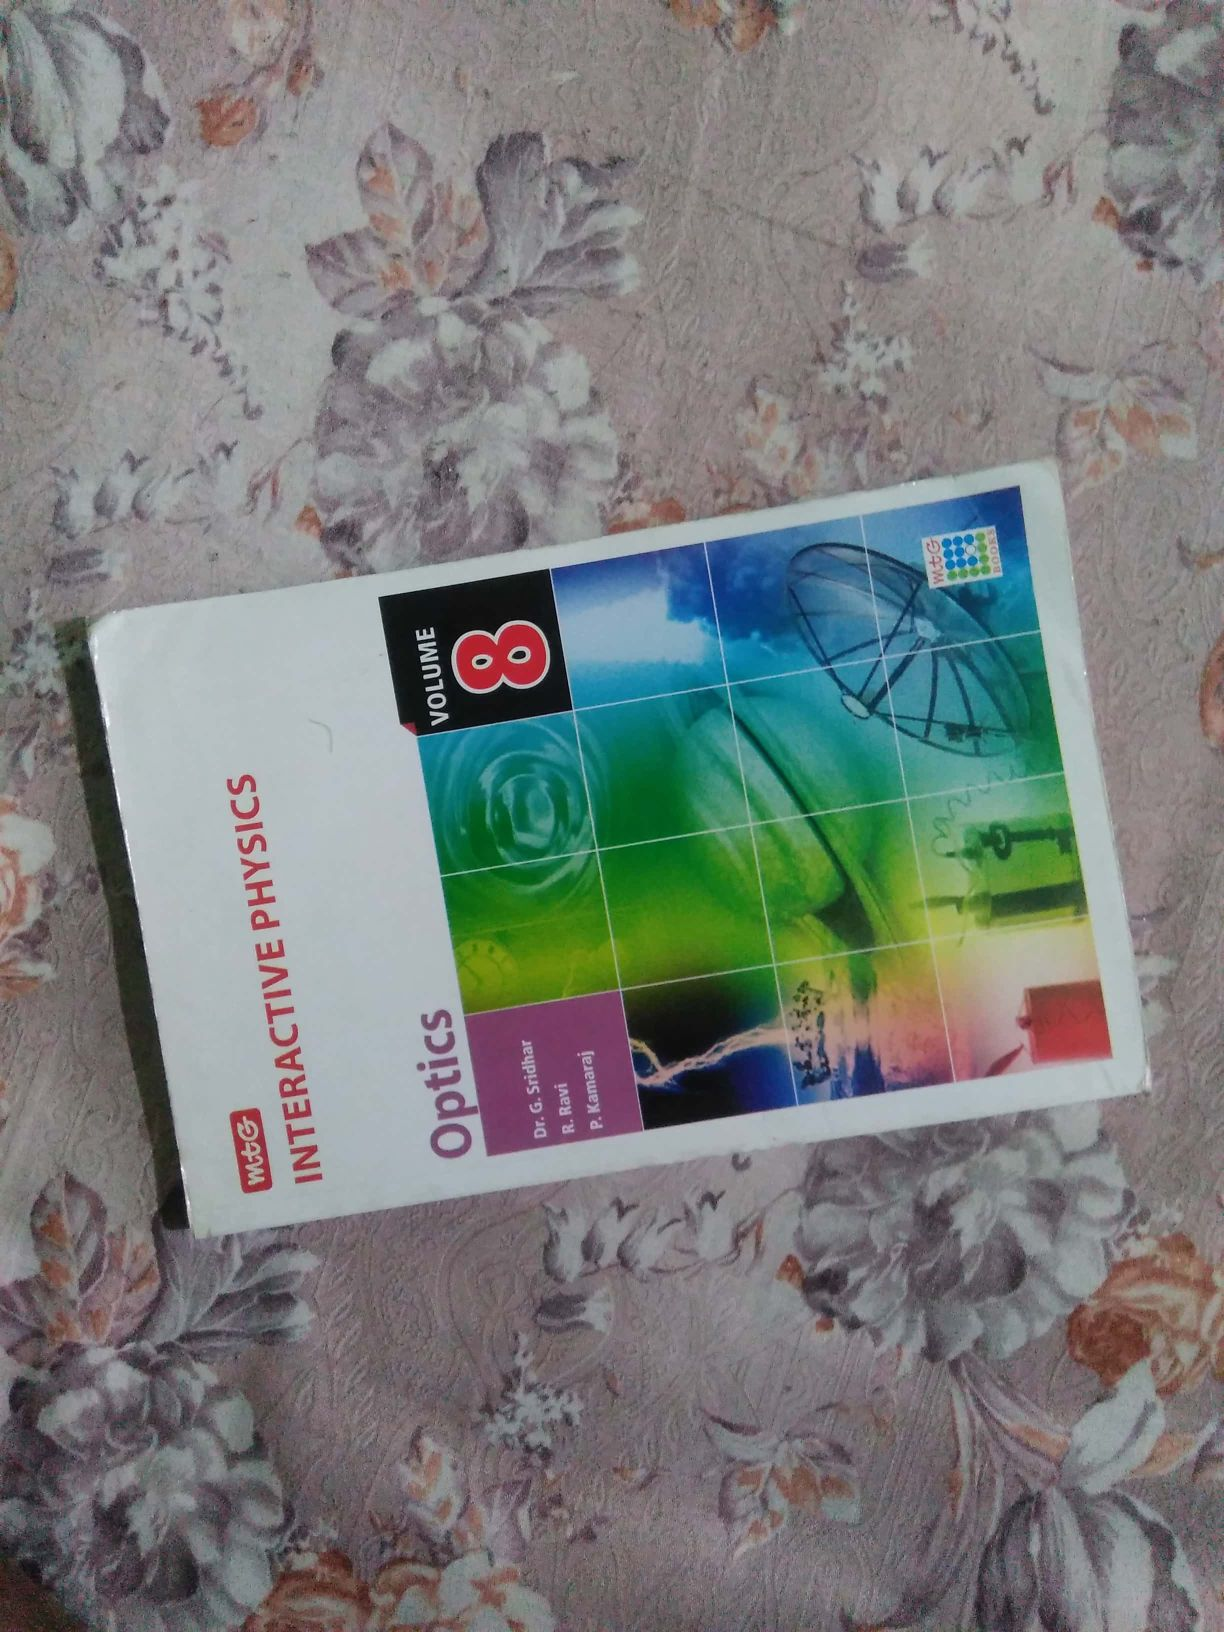optics: (76, 457, 1176, 1258)
